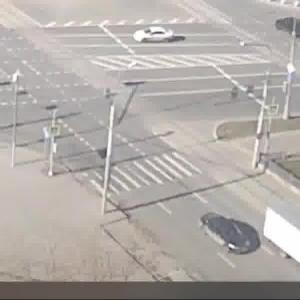car: (194, 212, 257, 262), (262, 202, 300, 262), (128, 26, 179, 46)
